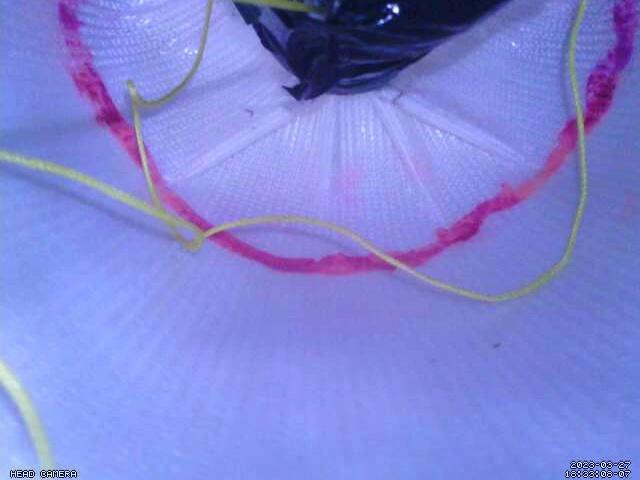head: (56, 0, 640, 277)
